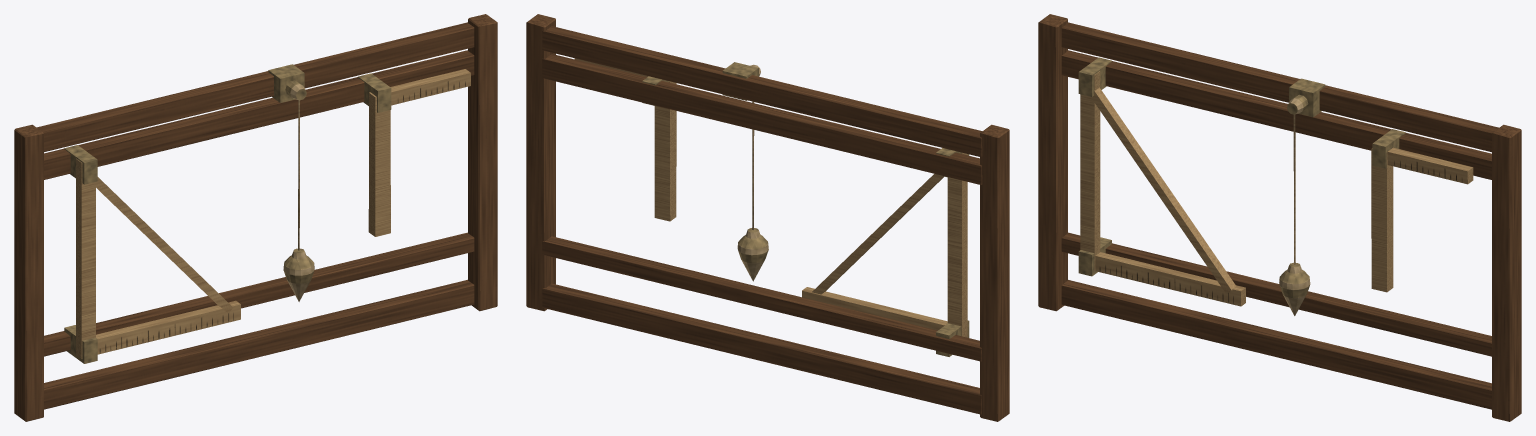
The model's file is PlumbSquareBoard_LOD1.fbx.
3 views of the same model, side by side, from view 1: azimuth 30°, elevation 25°; view 2: azimuth 150°, elevation 25°; view 3: azimuth 330°, elevation 25° (orthographic).
Visible parts, largest first — view 1: PlumbSquareBoard.001; view 2: PlumbSquareBoard.001; view 3: PlumbSquareBoard.001.
Boxes of the visible parts, x1,y1,x2,y2 form: PlumbSquareBoard.001: (14,14,497,421); PlumbSquareBoard.001: (526,14,1009,421); PlumbSquareBoard.001: (1038,14,1521,421).
Bounding box in the file's own units: 2.04 × 1.18 × 0.2109.
1 material, 1 textured.
